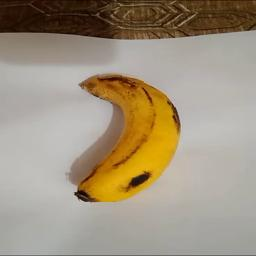Banana Semifresh: (65, 68, 183, 202)
